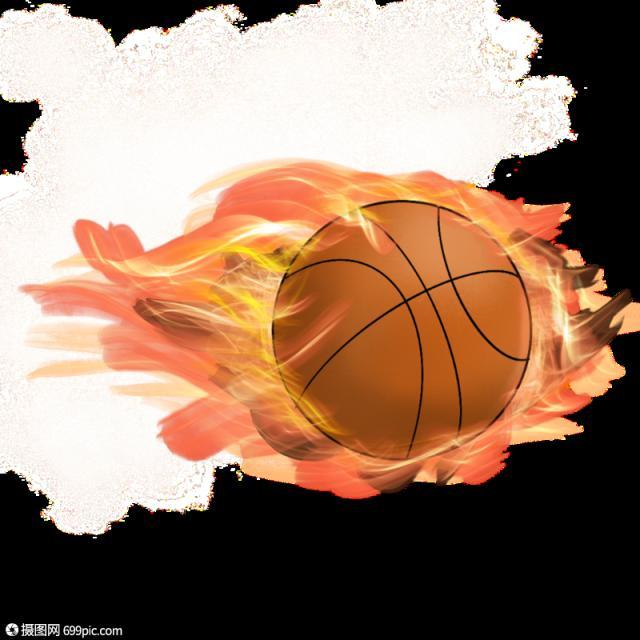rim: (270, 195, 533, 465)
